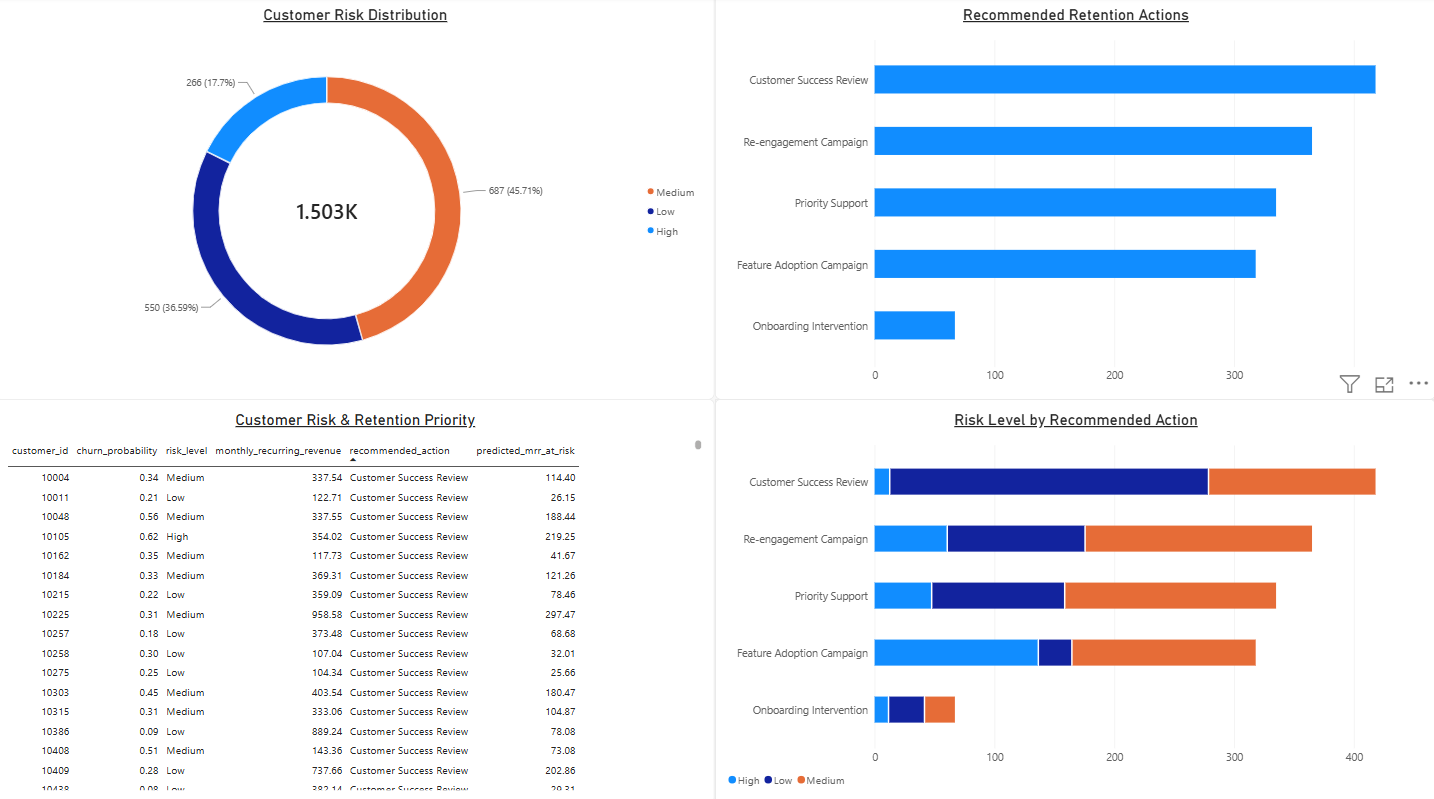

This screenshot's page, from the dashboard's own definition file:
{"tool":"powerbi","page":{"name":"Customer Risk","canvas":[1920,1080],"ordinal":1},"visuals":[{"type":"donutChart","title":"Customer Risk Distribution","fields":{"Category":["customer_risk_predictions.risk_level"],"Y":["CountNonNull(customer_risk_predictions.customer_id)"]},"box":[0,0,959.3,540.7],"z":0},{"type":"tableEx","title":"Customer Risk & Retention Priority","fields":{"Values":["customer_risk_predictions.customer_id","customer_risk_predictions.churn_probability","customer_risk_predictions.risk_level","customer_risk_predictions.monthly_recurring_revenue","customer_risk_predictions.recommended_action","customer_risk_predictions.predicted_mrr_at_risk"]},"box":[0,540.7,959.3,539],"z":1},{"type":"clusteredBarChart","title":"Recommended Retention Actions","fields":{"Category":["customer_risk_predictions.recommended_action"],"Y":["CountNonNull(customer_risk_predictions.customer_id)"]},"box":[959.3,0,961,540.7],"z":2},{"type":"barChart","title":"Risk Level by Recommended Action","fields":{"Category":["customer_risk_predictions.recommended_action"],"Y":["CountNonNull(customer_risk_predictions.customer_id)"],"Series":["customer_risk_predictions.risk_level"]},"box":[959.3,540.7,961,539],"z":3}]}

Visuals, with their boxes in screenshot pixels (x1, y1, x2, y2), scaled from the page's 1920x1080 canvas onto the 1434x799 screenshot:
"Customer Risk Distribution" donutChart: locate(0, 0, 716, 400)
"Customer Risk & Retention Priority" tableEx: locate(0, 400, 716, 798)
"Recommended Retention Actions" clusteredBarChart: locate(716, 0, 1433, 400)
"Risk Level by Recommended Action" barChart: locate(716, 400, 1433, 798)
